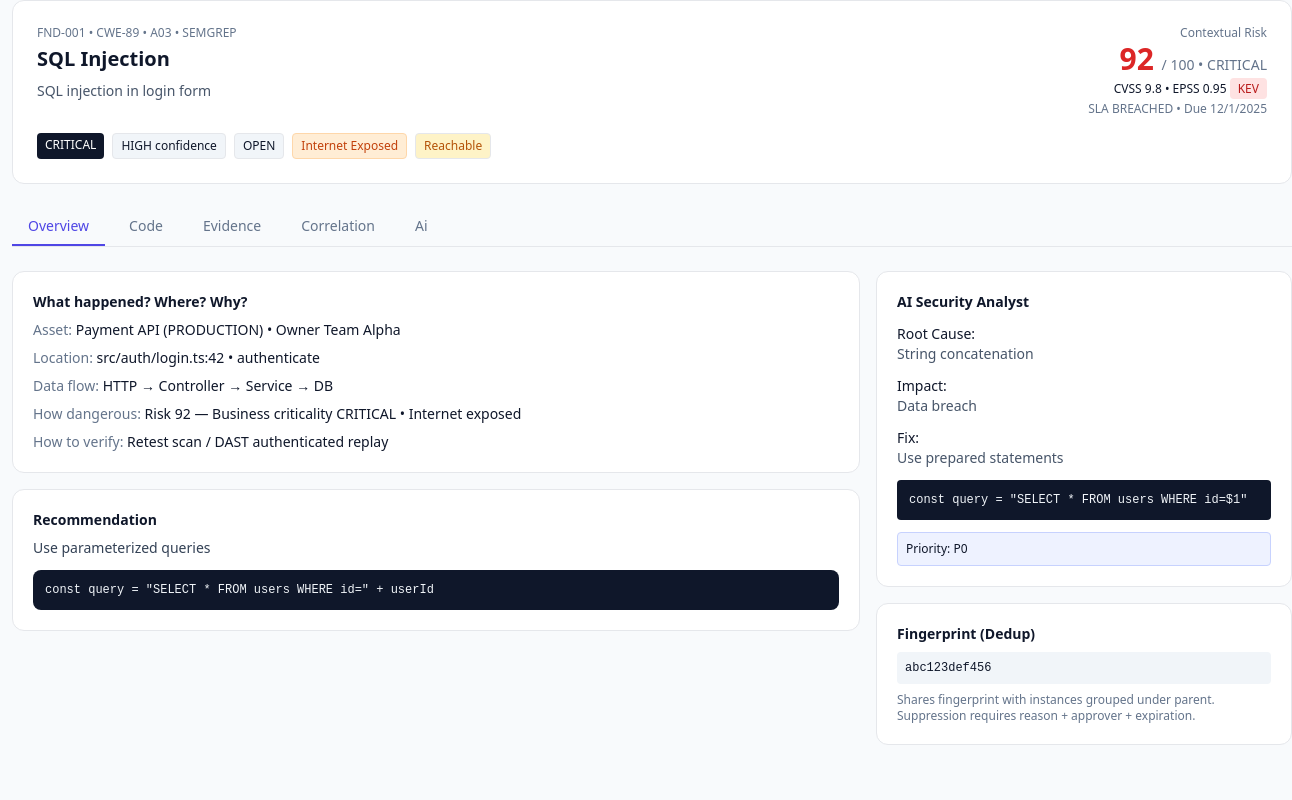
Scenario: FindingDetail › switches to correlation tab on click
Check: the heading "SQL Injection" is shown, box [37,45,170,72]
Click the button "correlation". click: (338, 227)
box: [285,208,391,246]
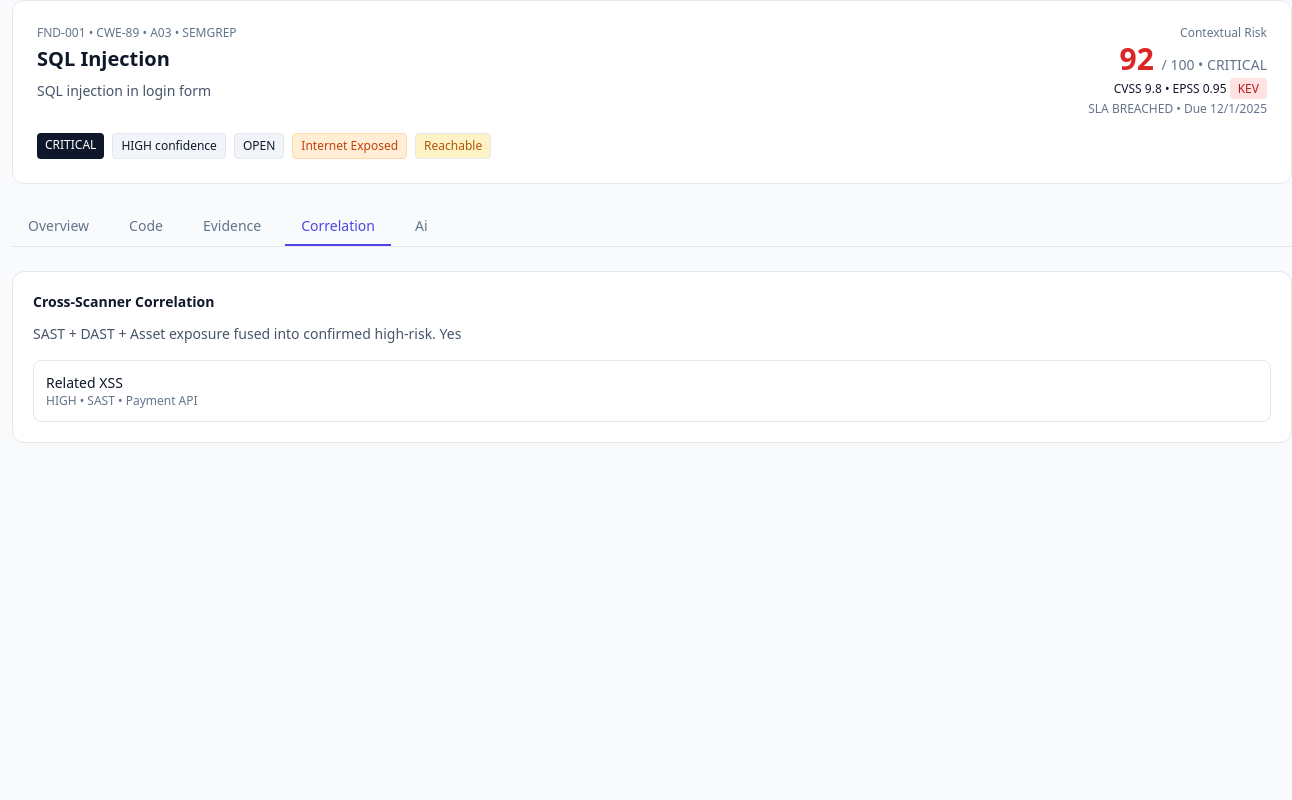
Check: the heading "Cross-Scanner Correlation" is shown, box [33,292,214,311]
Check: the text "Related XSS" is shown, box [46,373,123,392]
